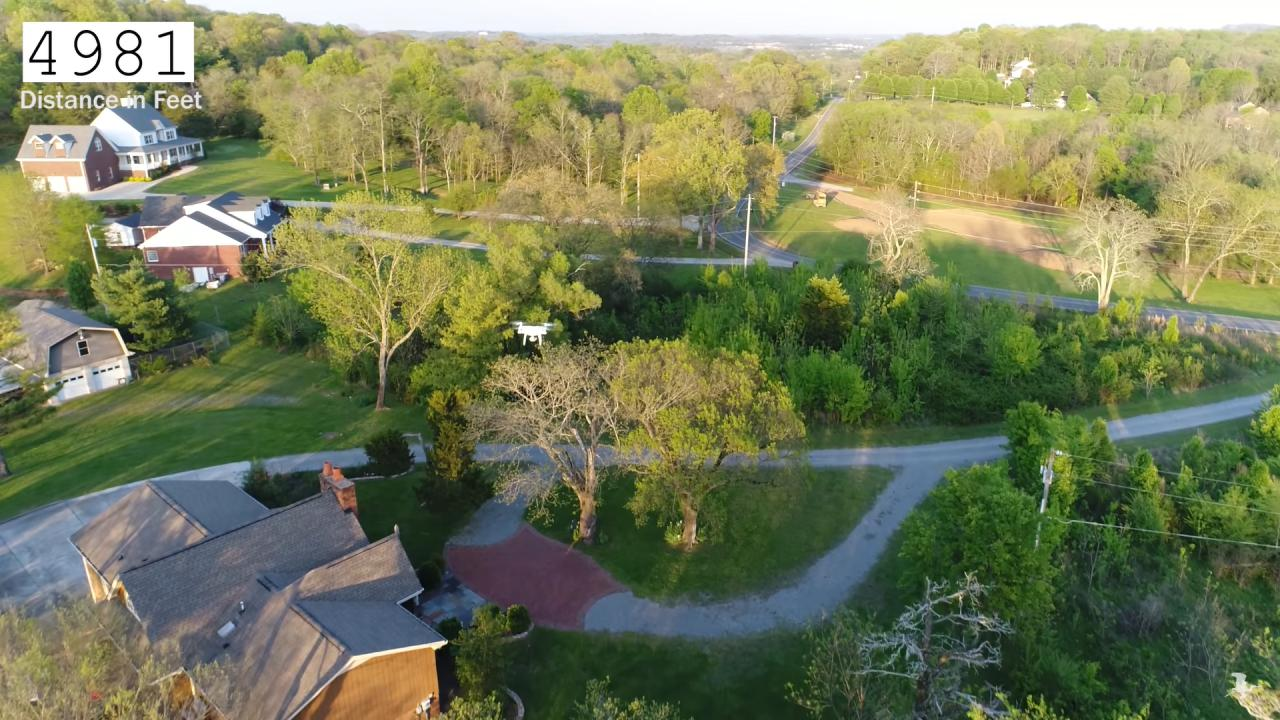Drone: (500, 314, 564, 353)
